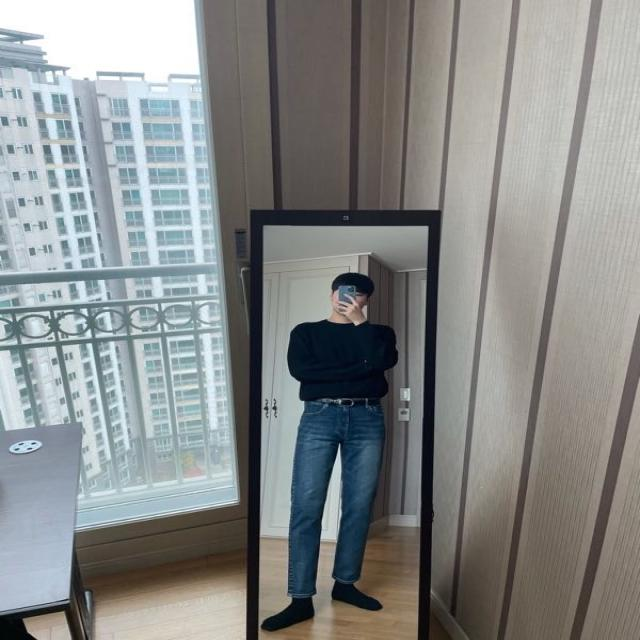denimpants: (286, 396, 382, 595)
longsleeve: (287, 324, 397, 404)
